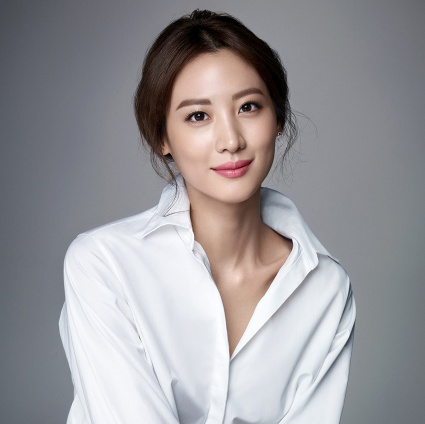female: (134, 1, 299, 216)
